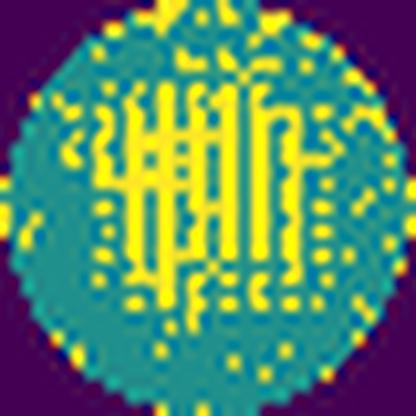Center: (95, 81, 336, 312)
